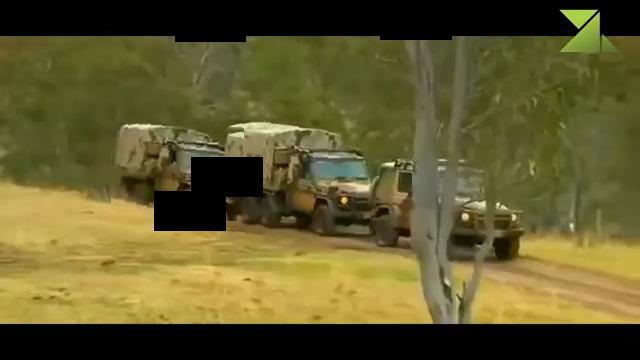MIL_HMMWV: (222, 120, 376, 233), (371, 160, 526, 262), (113, 120, 243, 219)
